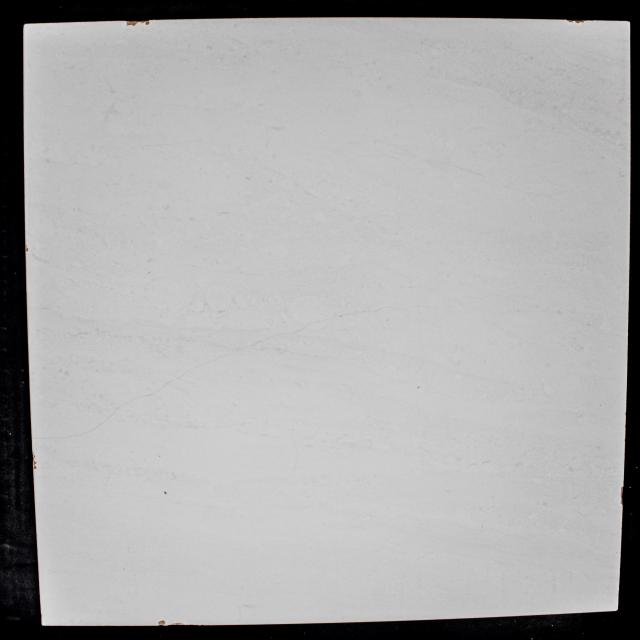edge-chipping: (125, 20, 150, 26), (32, 450, 37, 471), (620, 486, 624, 506), (566, 20, 586, 24), (168, 622, 185, 626), (158, 620, 165, 626)
hole: (164, 491, 167, 495)
line: (196, 351, 236, 367), (81, 416, 112, 434), (236, 336, 271, 350), (273, 323, 310, 336), (137, 383, 167, 397), (168, 368, 194, 383), (113, 398, 136, 414), (336, 310, 372, 318), (32, 435, 80, 439)
